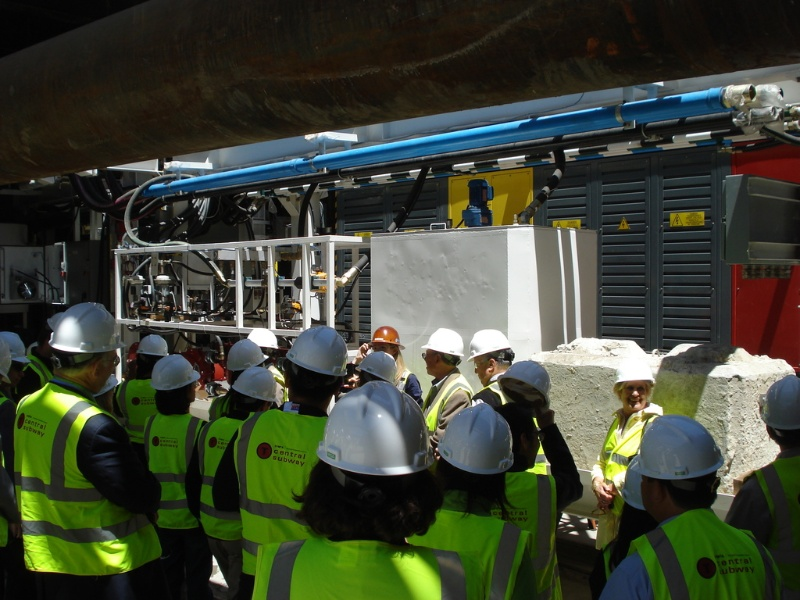helmet: (328, 386, 438, 474), (636, 412, 725, 482), (443, 403, 514, 478), (52, 303, 129, 357), (291, 330, 351, 377), (148, 356, 202, 388), (232, 367, 279, 403), (504, 356, 551, 391), (357, 350, 404, 378), (466, 327, 513, 354), (426, 328, 464, 360), (617, 353, 657, 383), (228, 337, 261, 364), (1, 333, 28, 362), (141, 338, 168, 356)
jacket: (19, 390, 159, 568), (242, 407, 334, 567), (263, 540, 467, 600), (640, 505, 764, 590), (425, 498, 538, 590), (146, 411, 202, 529), (204, 411, 240, 541), (604, 414, 645, 478)
